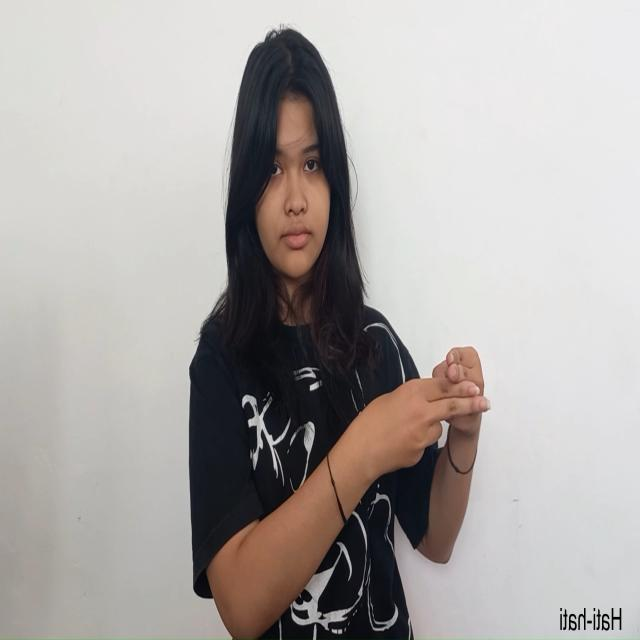Hati-hati -BISINDO-: (368, 342, 494, 480)
